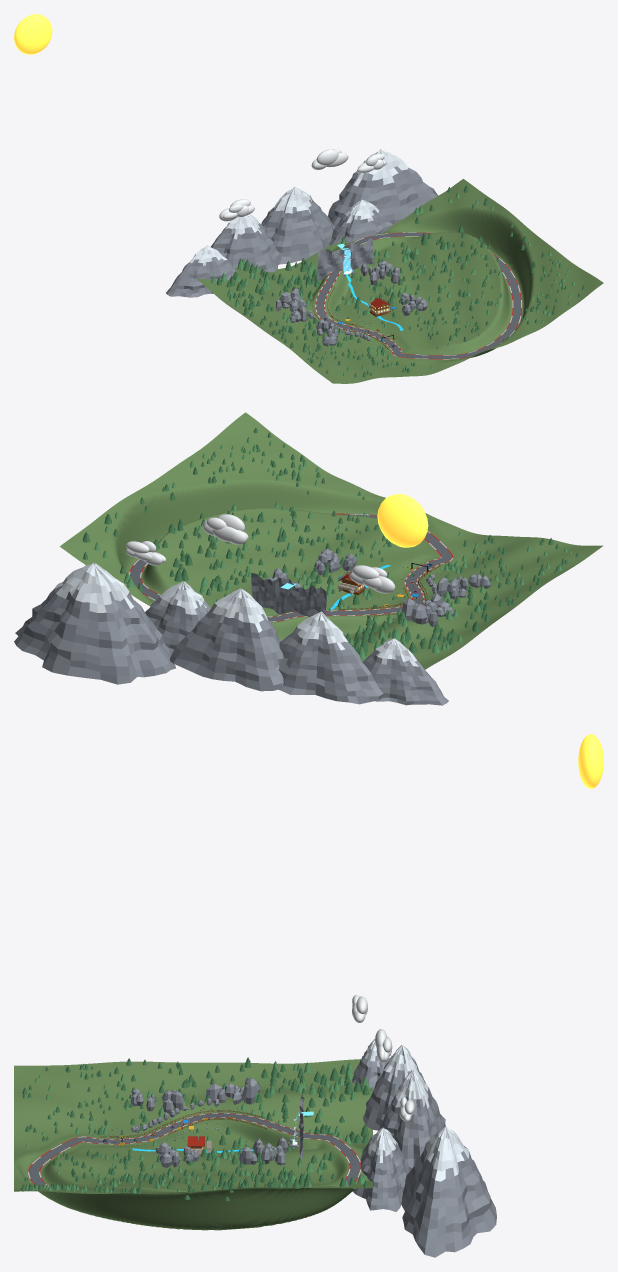
Rendered from blockkart_alpine_golden_scene_v12.glb.
3 views of the same model, one above another, from view 1: azimuth 30°, elevation 25°; view 2: azimuth 150°, elevation 25°; view 3: azimuth 270°, elevation 25° (orthographic). The views are drawn at different scales.
Parts seen in each view (by area): view 1: Golden valley terrain, Layered alpine peak 5, Layered alpine peak 3, Golden S curve road, Layered alpine peak 2, Layered alpine peak 1, Layered alpine peak 4, Waterfall cliff wall, Low geometry alpine sun; view 2: Golden valley terrain, Layered alpine peak 5, Layered alpine peak 3, Layered alpine peak 2, Layered alpine peak 1, Layered alpine peak 4, Golden S curve road, Waterfall cliff wall, Low geometry alpine sun; view 3: Golden valley terrain, Layered alpine peak 5, Layered alpine peak 3, Golden S curve road, Layered alpine peak 4, Layered alpine peak 2, Low geometry alpine sun, Layered alpine peak 1.
Part boxes in pixels (left/top/right/bottom): Golden valley terrain: left=197, top=179, right=603, bottom=383; Layered alpine peak 5: left=328, top=149, right=438, bottom=226; Layered alpine peak 3: left=261, top=187, right=334, bottom=264; Golden S curve road: left=314, top=232, right=522, bottom=359; Layered alpine peak 2: left=211, top=214, right=280, bottom=272; Layered alpine peak 1: left=166, top=245, right=236, bottom=297; Layered alpine peak 4: left=329, top=199, right=392, bottom=245; Waterfall cliff wall: left=317, top=238, right=374, bottom=280; Low geometry alpine sun: left=14, top=14, right=52, bottom=54; Golden valley terrain: left=60, top=412, right=603, bottom=669; Layered alpine peak 5: left=14, top=563, right=175, bottom=684; Layered alpine peak 3: left=169, top=588, right=283, bottom=691; Layered alpine peak 2: left=278, top=611, right=383, bottom=704; Layered alpine peak 1: left=362, top=638, right=448, bottom=705; Layered alpine peak 4: left=145, top=581, right=210, bottom=654; Golden S curve road: left=128, top=513, right=453, bottom=622; Waterfall cliff wall: left=251, top=573, right=326, bottom=616; Low geometry alpine sun: left=377, top=494, right=428, bottom=547; Golden valley terrain: left=14, top=1059, right=372, bottom=1230; Layered alpine peak 5: left=401, top=1126, right=496, bottom=1257; Layered alpine peak 3: left=378, top=1070, right=445, bottom=1170; Golden S curve road: left=27, top=1112, right=361, bottom=1187; Layered alpine peak 4: left=353, top=1127, right=409, bottom=1211; Layered alpine peak 2: left=363, top=1045, right=425, bottom=1130; Low geometry alpine sun: left=578, top=734, right=603, bottom=788; Layered alpine peak 1: left=352, top=1039, right=391, bottom=1090.
Size of what is drawn, in the model's own units: 681 by 412 by 731.
